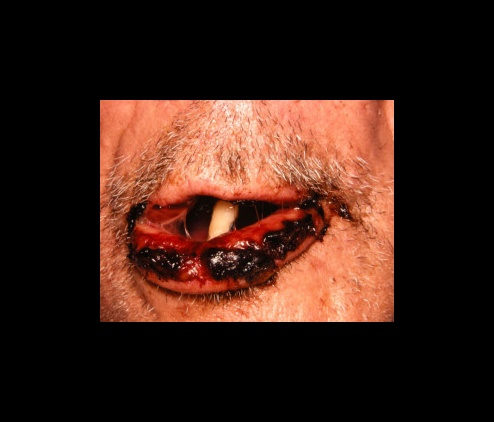SJS-TEN: (116, 176, 365, 316)
